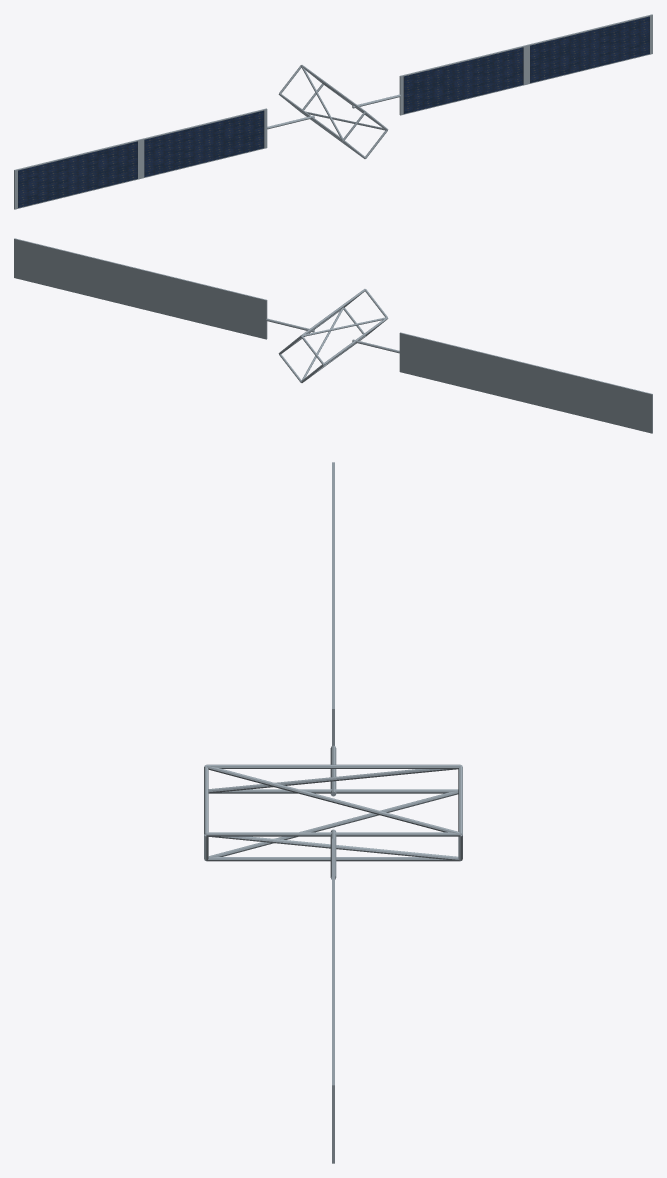
File: ref-pegasus-1085.glb
The picture shows the model from 3 angles, top to bottom: view 1: azimuth 30°, elevation 25°; view 2: azimuth 150°, elevation 25°; view 3: azimuth 270°, elevation 25°; orthographic projection. The views are drawn at different scales.
Visible parts, largest first — view 1: Photovoltaic laminates (×4), Array frame (×4); view 2: Array frame (×4); view 3: Structure (×8).
Boxes of the visible parts, left/top/right/bottom form: Photovoltaic laminates (×4): left=18, top=16, right=649, bottom=207; Array frame (×4): left=14, top=14, right=652, bottom=209; Array frame (×4): left=14, top=238, right=652, bottom=433; Structure (×8): left=206, top=764, right=460, bottom=861.
Bounding box in the file's own units: 29 × 2.09 × 5.09.
Materials: 2 (1 with a texture image).
